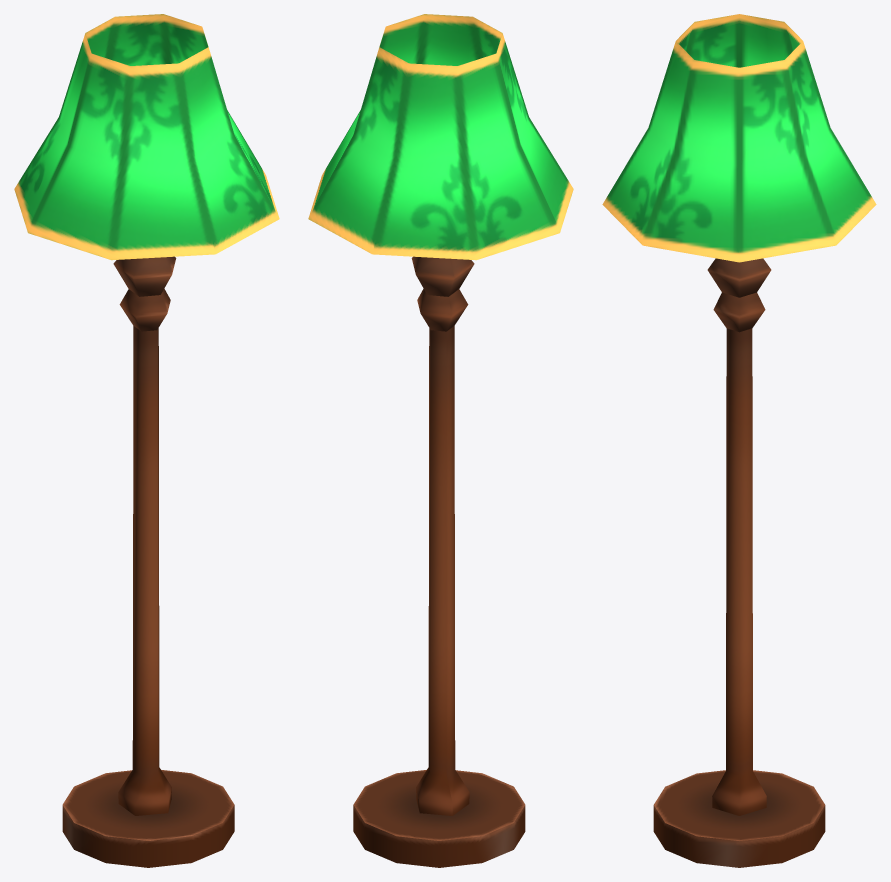
File: ELT0110011.fbx
3 renders of one model, left to right at view 1: azimuth 30°, elevation 25°; view 2: azimuth 150°, elevation 25°; view 3: azimuth 270°, elevation 25°, orthographic.
Parts seen in each view (by area): view 1: smELT0110011; view 2: smELT0110011; view 3: smELT0110011.
Boxes of the visible parts, box(x1,y1,x2,y2) form: smELT0110011: box(14, 14, 279, 867); smELT0110011: box(308, 14, 573, 867); smELT0110011: box(602, 14, 876, 867).
Bounding box in the file's own units: 38.92 × 124 × 38.92.
Materials: 1 (1 with a texture image).
